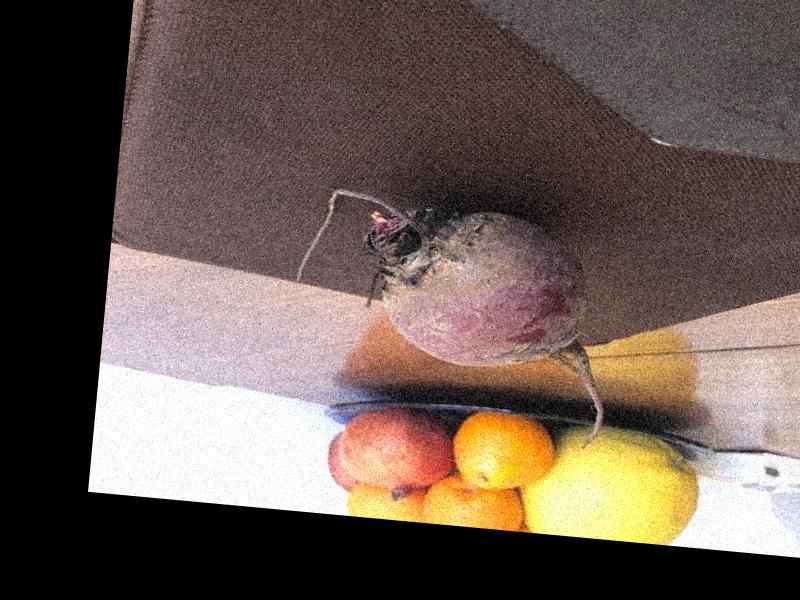Beet: (281, 185, 623, 452)
